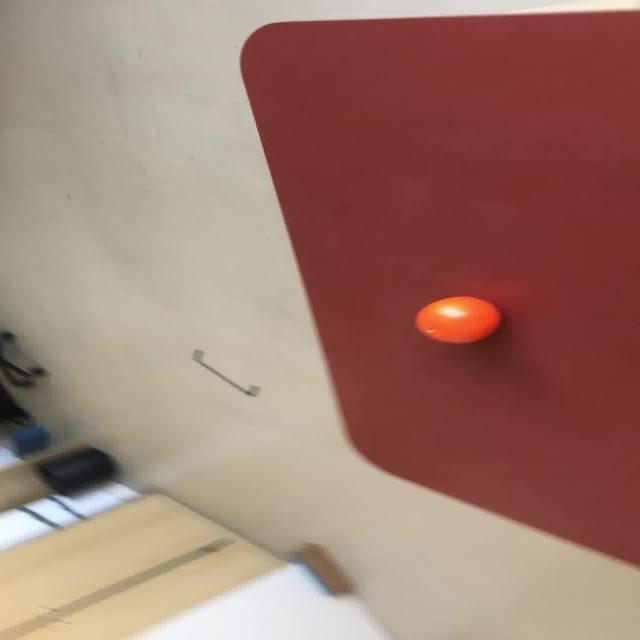orange: (413, 295, 501, 344)
